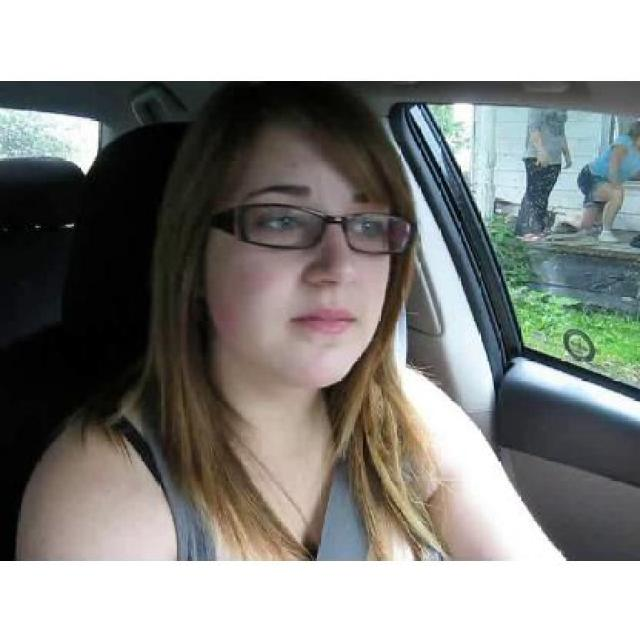attentif: (197, 83, 415, 391)
